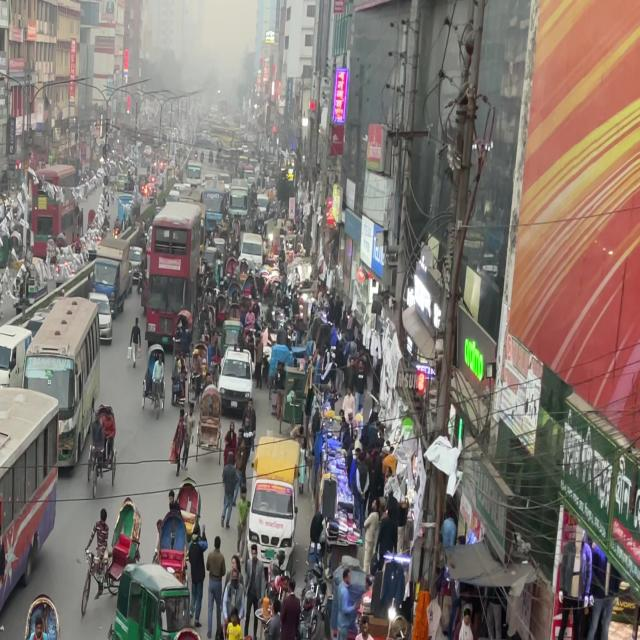bicycle: (80, 518, 117, 609)
bus: (0, 377, 67, 639), (18, 294, 101, 476), (144, 204, 203, 344), (149, 203, 204, 276)
car: (245, 442, 305, 548), (217, 336, 266, 410), (0, 319, 35, 397)
rickshaw: (109, 551, 208, 640)
van: (88, 254, 124, 324)
